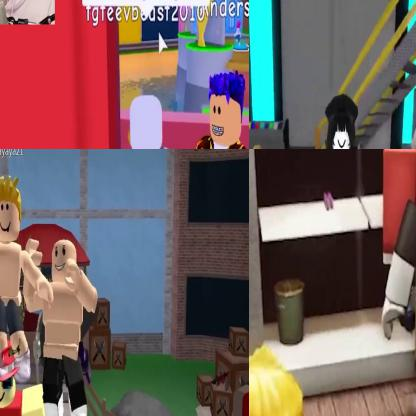Roblox-Avatar: (23, 238, 99, 416), (1, 176, 55, 384), (382, 150, 416, 416), (185, 70, 249, 149), (100, 96, 178, 149), (306, 95, 378, 149)
